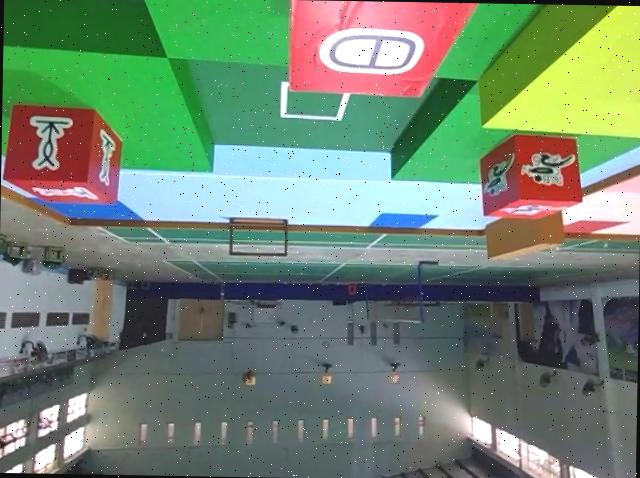R1: (478, 131, 585, 222)
R2 Fake: (289, 0, 485, 104)
R2 Real: (1, 98, 127, 207)
